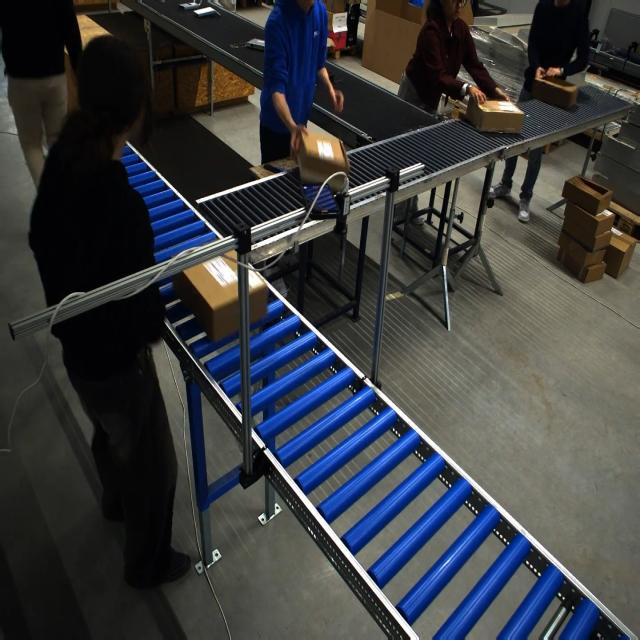box: (176, 253, 268, 343), (295, 130, 346, 189), (465, 96, 524, 133), (530, 75, 578, 110)
product: (193, 6, 219, 17), (246, 38, 264, 50), (179, 2, 202, 10)
